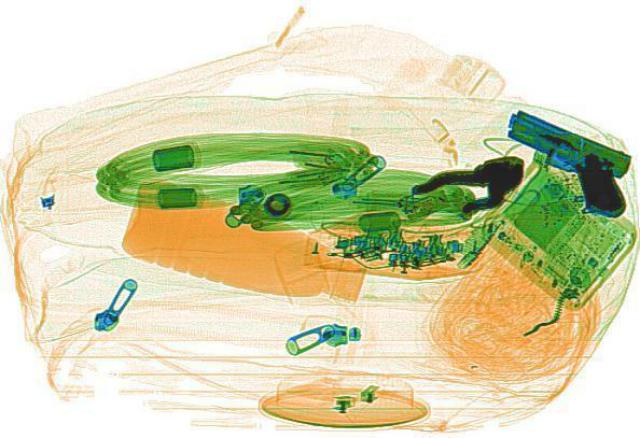Gun: (462, 108, 638, 207)
